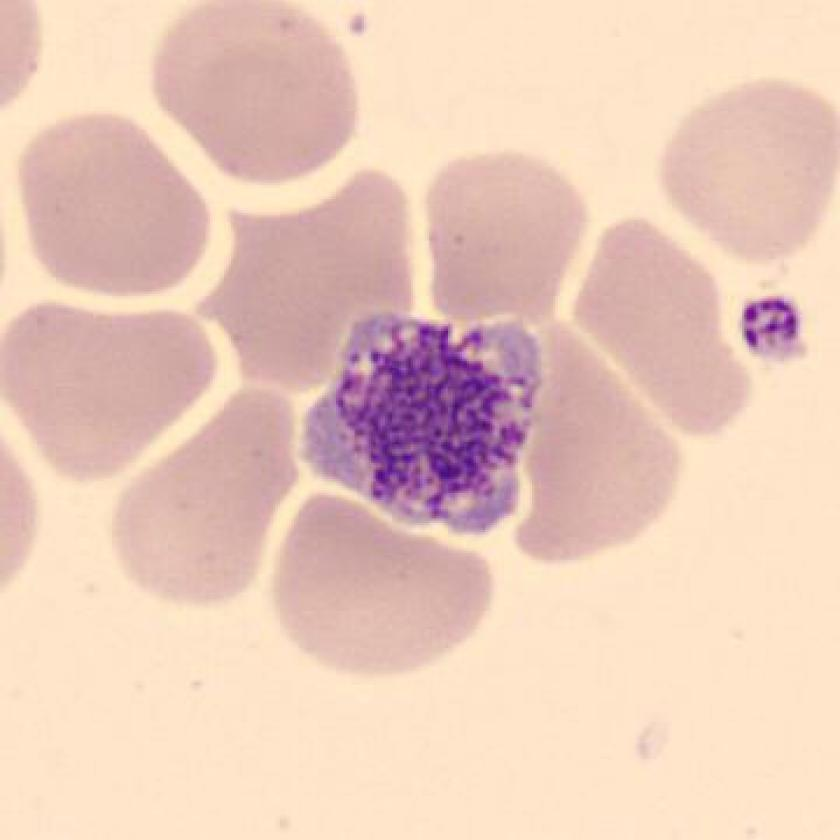platelets: (293, 304, 552, 550), (727, 288, 808, 367)
